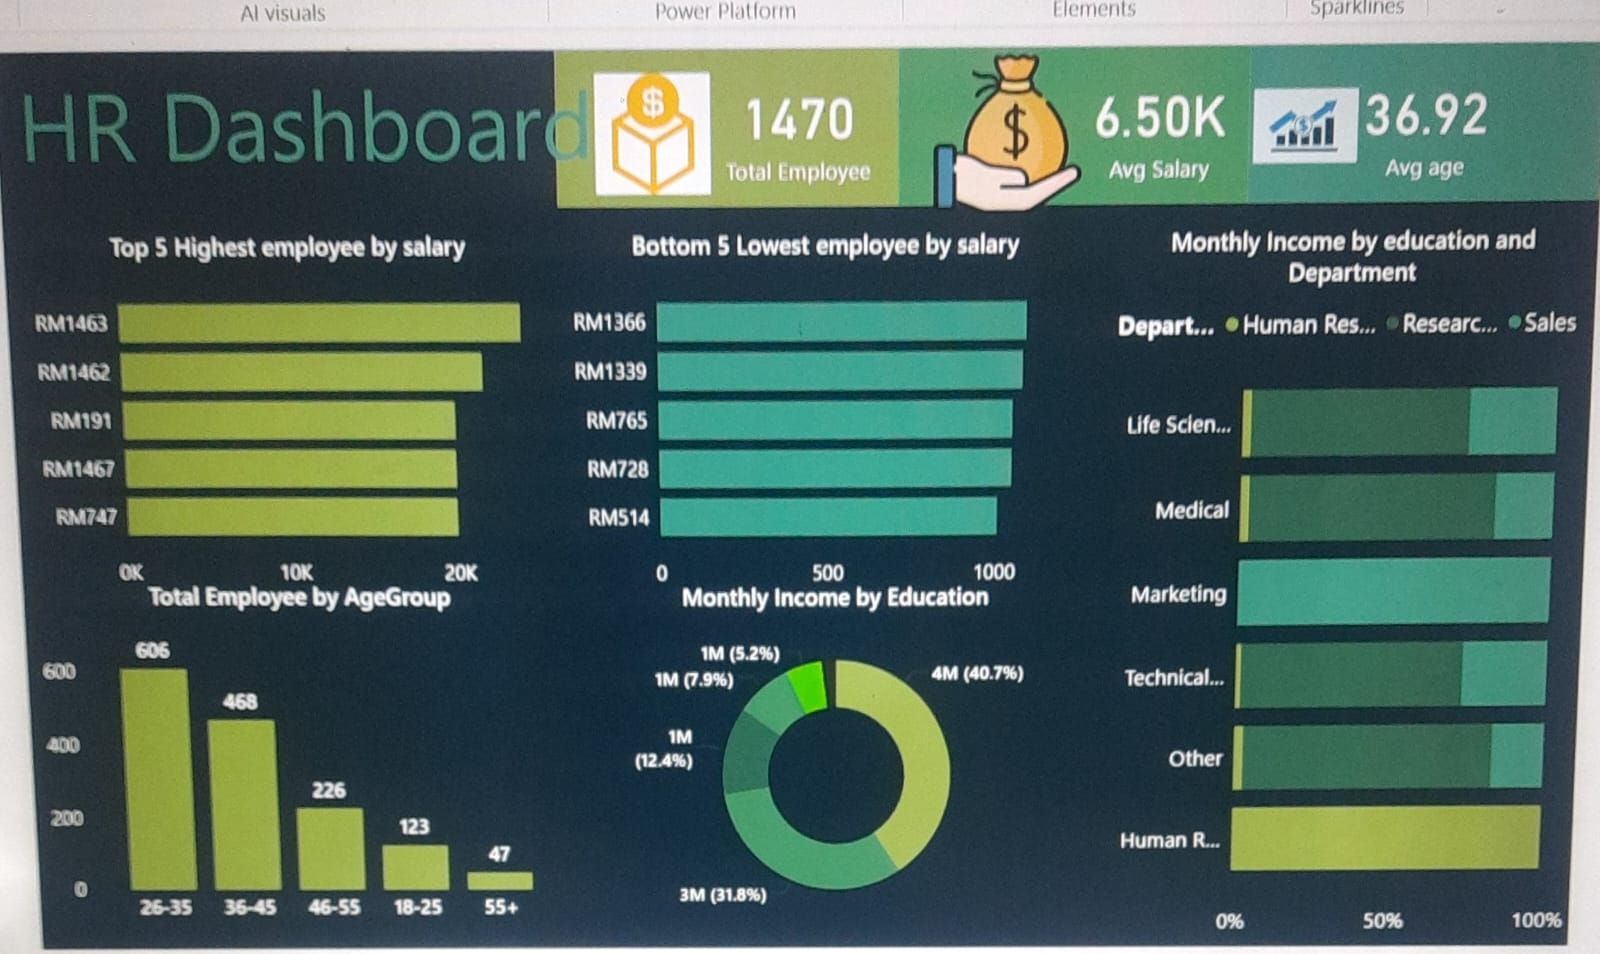

What the dashboard file says about the page in this screenshot:
{"tool":"powerbi","page":{"name":"Page 1","canvas":[1280,720],"ordinal":0},"visuals":[{"type":"clusteredBarChart","title":"Top 5 Highest employee by salary","fields":{"Category":["HR_Analytics (1).EmpID"],"Y":["Sum(HR_Analytics (1).MonthlyIncome)"]},"box":[12,136,434,292],"z":3},{"type":"clusteredBarChart","title":"Bottom 5 Lowest employee by salary","fields":{"Category":["HR_Analytics (1).EmpID"],"Y":["Sum(HR_Analytics (1).MonthlyIncome)"]},"box":[446,136,430,292],"z":4},{"type":"donutChart","title":" Monthly Income by Education","fields":{"Y":["Sum(HR_Analytics (1).MonthlyIncome)"],"Category":["HR_Analytics (1).EducationField"]},"box":[446,414,444,292],"z":5},{"type":"hundredPercentStackedBarChart","title":"Monthly Income by education and Department","fields":{"Series":["HR_Analytics (1).Department"],"Category":["HR_Analytics (1).EducationField"],"Y":["Sum(HR_Analytics (1).MonthlyIncome)"]},"box":[890,136,390,584],"z":6},{"type":"columnChart","fields":{"Category":["HR_Analytics (1).AgeGroup"],"Y":["HR_Analytics (1).Total Employee"]},"box":[8,414,438,292],"z":7},{"type":"shape","box":[446,0,280,120],"z":8},{"type":"shape","box":[720,0,280,120],"z":9},{"type":"shape","box":[1000,0,280,120],"z":10},{"type":"card","fields":{"Values":["HR_Analytics (1).Total Employee"]},"box":[500,0,280,120],"z":11},{"type":"card","fields":{"Values":["HR_Analytics (1).Avg Salary"]},"box":[788,0,280,120],"z":13},{"type":"card","fields":{"Values":["HR_Analytics (1).Avg age"]},"box":[1000,0,280,120],"z":14},{"type":"textbox","box":[0,0,494,130],"z":15},{"type":"image","box":[984,28,122,66],"z":16},{"type":"image","box":[406,14,234,102],"z":17},{"type":"image","box":[704,0,208,132],"z":18}]}

Visuals, with their boxes on the page's 1280x720 design canvas (x1, y1, x2, y2). These are canvas units, not pixel positions in the 1600x954 screenshot, which may show the page scaled, cropped or inside an application window:
"Top 5 Highest employee by salary" clusteredBarChart: locate(12, 136, 446, 428)
"Bottom 5 Lowest employee by salary" clusteredBarChart: locate(446, 136, 876, 428)
" Monthly Income by Education" donutChart: locate(446, 414, 890, 706)
"Monthly Income by education and Department" hundredPercentStackedBarChart: locate(890, 136, 1280, 720)
columnChart - HR_Analytics (1).AgeGroup x HR_Analytics (1).Total Employee: locate(8, 414, 446, 706)
shape: locate(446, 0, 726, 120)
shape: locate(720, 0, 1000, 120)
shape: locate(1000, 0, 1280, 120)
card - HR_Analytics (1).Total Employee: locate(500, 0, 780, 120)
card - HR_Analytics (1).Avg Salary: locate(788, 0, 1068, 120)
card - HR_Analytics (1).Avg age: locate(1000, 0, 1280, 120)
textbox: locate(0, 0, 494, 130)
image: locate(984, 28, 1106, 94)
image: locate(406, 14, 640, 116)
image: locate(704, 0, 912, 132)
